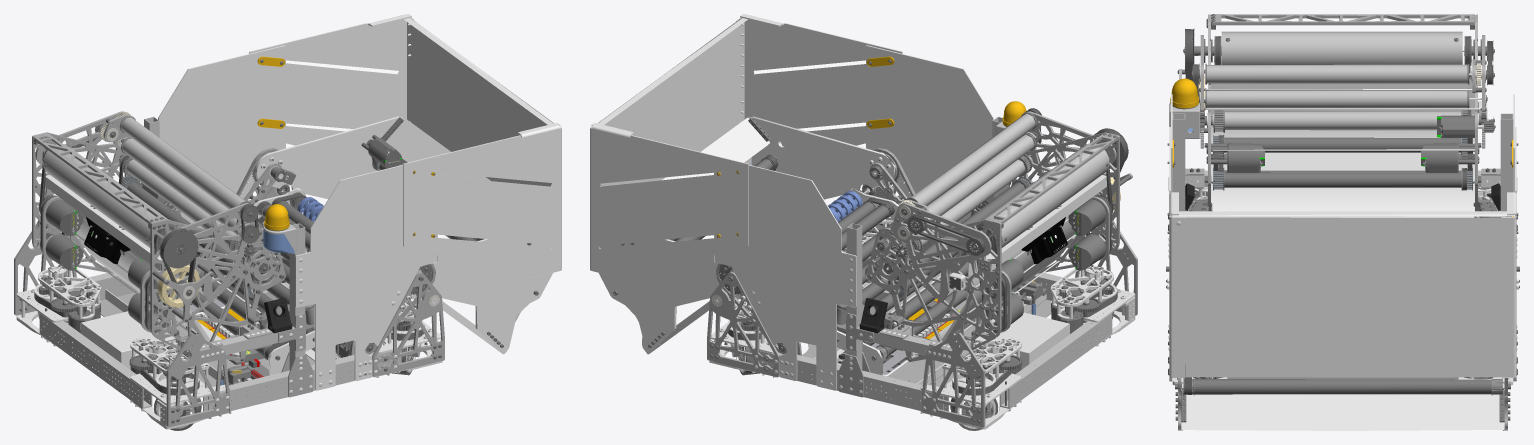
The model's file is lickitung-web.glb.
3 renders of one model, left to right at view 1: azimuth 30°, elevation 25°; view 2: azimuth 150°, elevation 25°; view 3: azimuth 270°, elevation 25°, orthographic. The views are drawn at different scales.
Parts seen in each view (by area): view 1: Part 2-Mirrored, 9785-2026-2100, #10-32 x 1/2" L BHCS (Steel, Black Oxide), 9785-2026-4100, Aluminum Tubing, 1/2" Hex Clamping Shaft Collar (Split)-Mirrored, 9785-2026-4200, 1/2" Rounded Hex (27" L, 13.75mm OD), 40 Tooth x 15mm HTD5 Belt, 9785-2026-2600, Minimal, Part 5 (+7 smaller); view 2: Part 2-Mirrored, 9785-2026-2100, #10-32 x 1/2" L BHCS (Steel, Black Oxide), 9785-2026-4100, Aluminum Tubing, 1/2" Hex Clamping Shaft Collar (Split)-Mirrored, 9785-2026-4200, 1/2" Rounded Hex (27" L, 13.75mm OD), 40 Tooth x 15mm HTD5 Belt, 9785-2026-2600, Minimal, Part 5 (+5 smaller); view 3: Part 2-Mirrored, Aluminum Tubing, #10-32 x 1/2" L BHCS (Steel, Black Oxide), Part 5, 9785-2026-2500, 9785-2026-2100, 9785-2026-4200, 1/2" Rounded Hex (27" L, 13.75mm OD), 40 Tooth x 15mm HTD5 Belt, 3DP_StubRollerWCP_Style, Robot Signal Light (RSL) (Werma), 1/2" Hex Clamping Shaft Collar (Split)-Mirrored (+3 smaller).
Boxes of the visible parts, x1,y1,x2,y2 form: Part 2-Mirrored: (158, 14, 561, 390); 9785-2026-2100: (14, 111, 444, 427); #10-32 x 1/2" L BHCS (Steel, Black Oxide): (19, 59, 538, 430); 9785-2026-4100: (254, 116, 552, 375); Aluminum Tubing: (43, 117, 245, 252); 1/2" Hex Clamping Shaft Collar (Split)-Mirrored: (16, 170, 442, 429); 9785-2026-4200: (39, 116, 431, 411); 1/2" Rounded Hex (27" L, 13.75mm OD): (45, 141, 437, 385); 40 Tooth x 15mm HTD5 Belt: (39, 137, 377, 360); 9785-2026-2600: (385, 117, 490, 180); Minimal: (52, 217, 406, 357); Part 5: (76, 209, 239, 355); Part 2-Mirrored: (590, 14, 993, 390); 9785-2026-2100: (707, 111, 1137, 427); #10-32 x 1/2" L BHCS (Steel, Black Oxide): (613, 59, 1130, 430); 9785-2026-4100: (599, 116, 967, 375); Aluminum Tubing: (911, 113, 1109, 252); 1/2" Hex Clamping Shaft Collar (Split)-Mirrored: (709, 170, 1135, 429); 9785-2026-4200: (720, 116, 1112, 411); 1/2" Rounded Hex (27" L, 13.75mm OD): (714, 157, 1106, 385); 40 Tooth x 15mm HTD5 Belt: (764, 109, 1127, 345); 9785-2026-2600: (662, 117, 769, 180); Minimal: (745, 217, 1099, 377); Part 5: (912, 209, 1075, 355); Part 2-Mirrored: (1169, 94, 1516, 377); Aluminum Tubing: (1207, 31, 1467, 130); #10-32 x 1/2" L BHCS (Steel, Black Oxide): (1166, 14, 1519, 422); Part 5: (1211, 79, 1474, 217); 9785-2026-2500: (1181, 389, 1504, 430); 9785-2026-2100: (1169, 14, 1516, 381); 9785-2026-4200: (1169, 102, 1513, 379); 1/2" Rounded Hex (27" L, 13.75mm OD): (1185, 50, 1500, 377); 40 Tooth x 15mm HTD5 Belt: (1184, 29, 1492, 394); 3DP_StubRollerWCP_Style: (1183, 63, 1502, 395); Robot Signal Light (RSL) (Werma): (1170, 78, 1198, 108); 1/2" Hex Clamping Shaft Collar (Split)-Mirrored: (1168, 176, 1517, 385).
Bounding box in the file's own units: 1.02 × 0.5496 × 0.6985.
